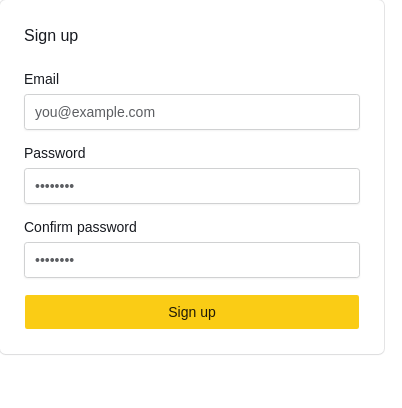
it: RegisterForm › shows an error when passwords do not match
In the field labelled "Email": (192, 112) [24,94,360,130], type "a@example.com"
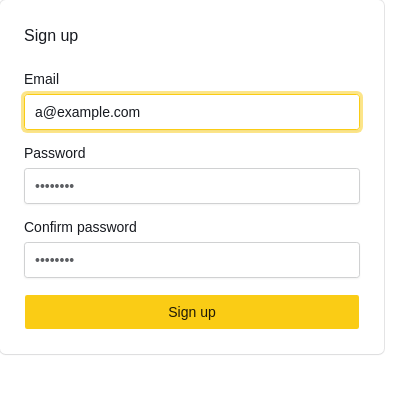
In the password field labelled "Password": (192, 186) [24,168,360,204], type "password123"
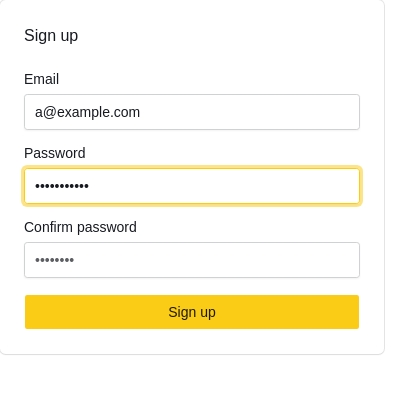
In the password field labelled "Confirm password": (192, 260) [24,242,360,278], type "different123"
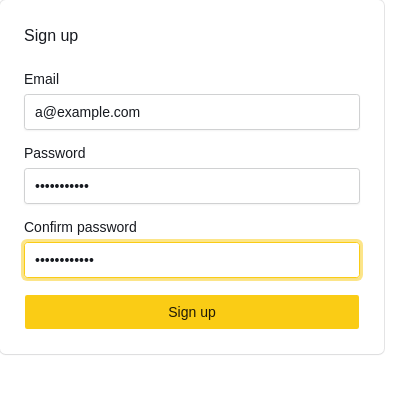
Click the button "Sign up": (192, 312) [24,294,360,330]
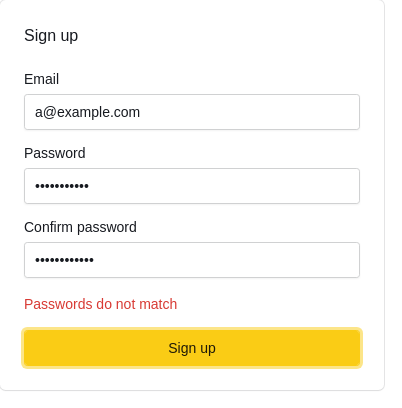
Result: the text "Passwords do not match" is shown at [24,296,177,312]
